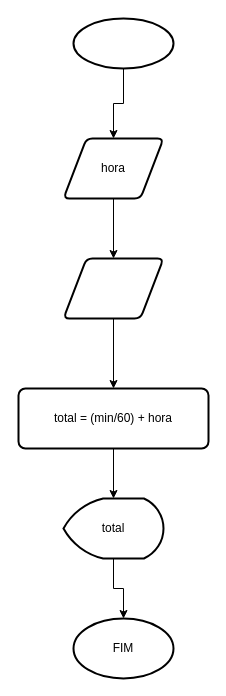
Some shapes in this 226 by 696 pixel diagram are drawn without their labels. Each missing label, with the box of its shape:
INICIO: (72, 17, 174, 69)
min: (62, 257, 164, 319)
